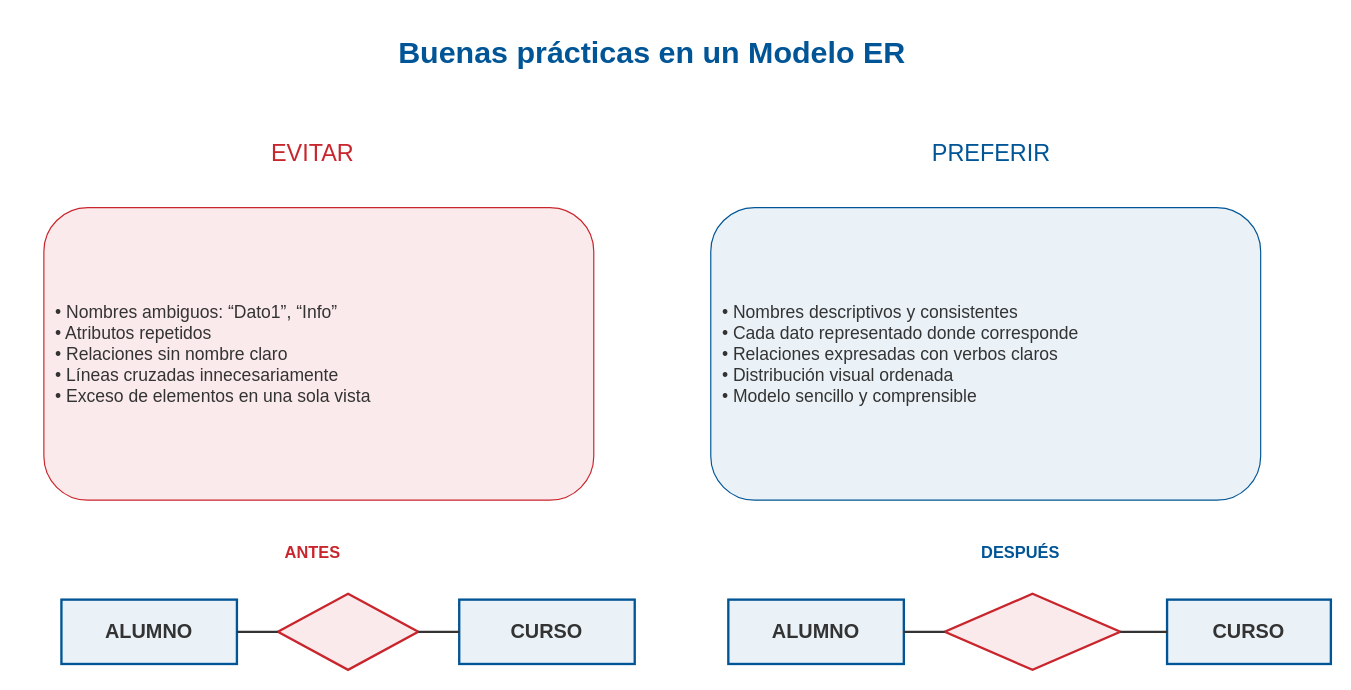
This 1351x690 diagram has some shape labels left out. The centre of each missing label's shape, as x and y in pixels:
"REL" goes at (x=347, y=631).
"SE MATRICULA" goes at (x=1032, y=631).
